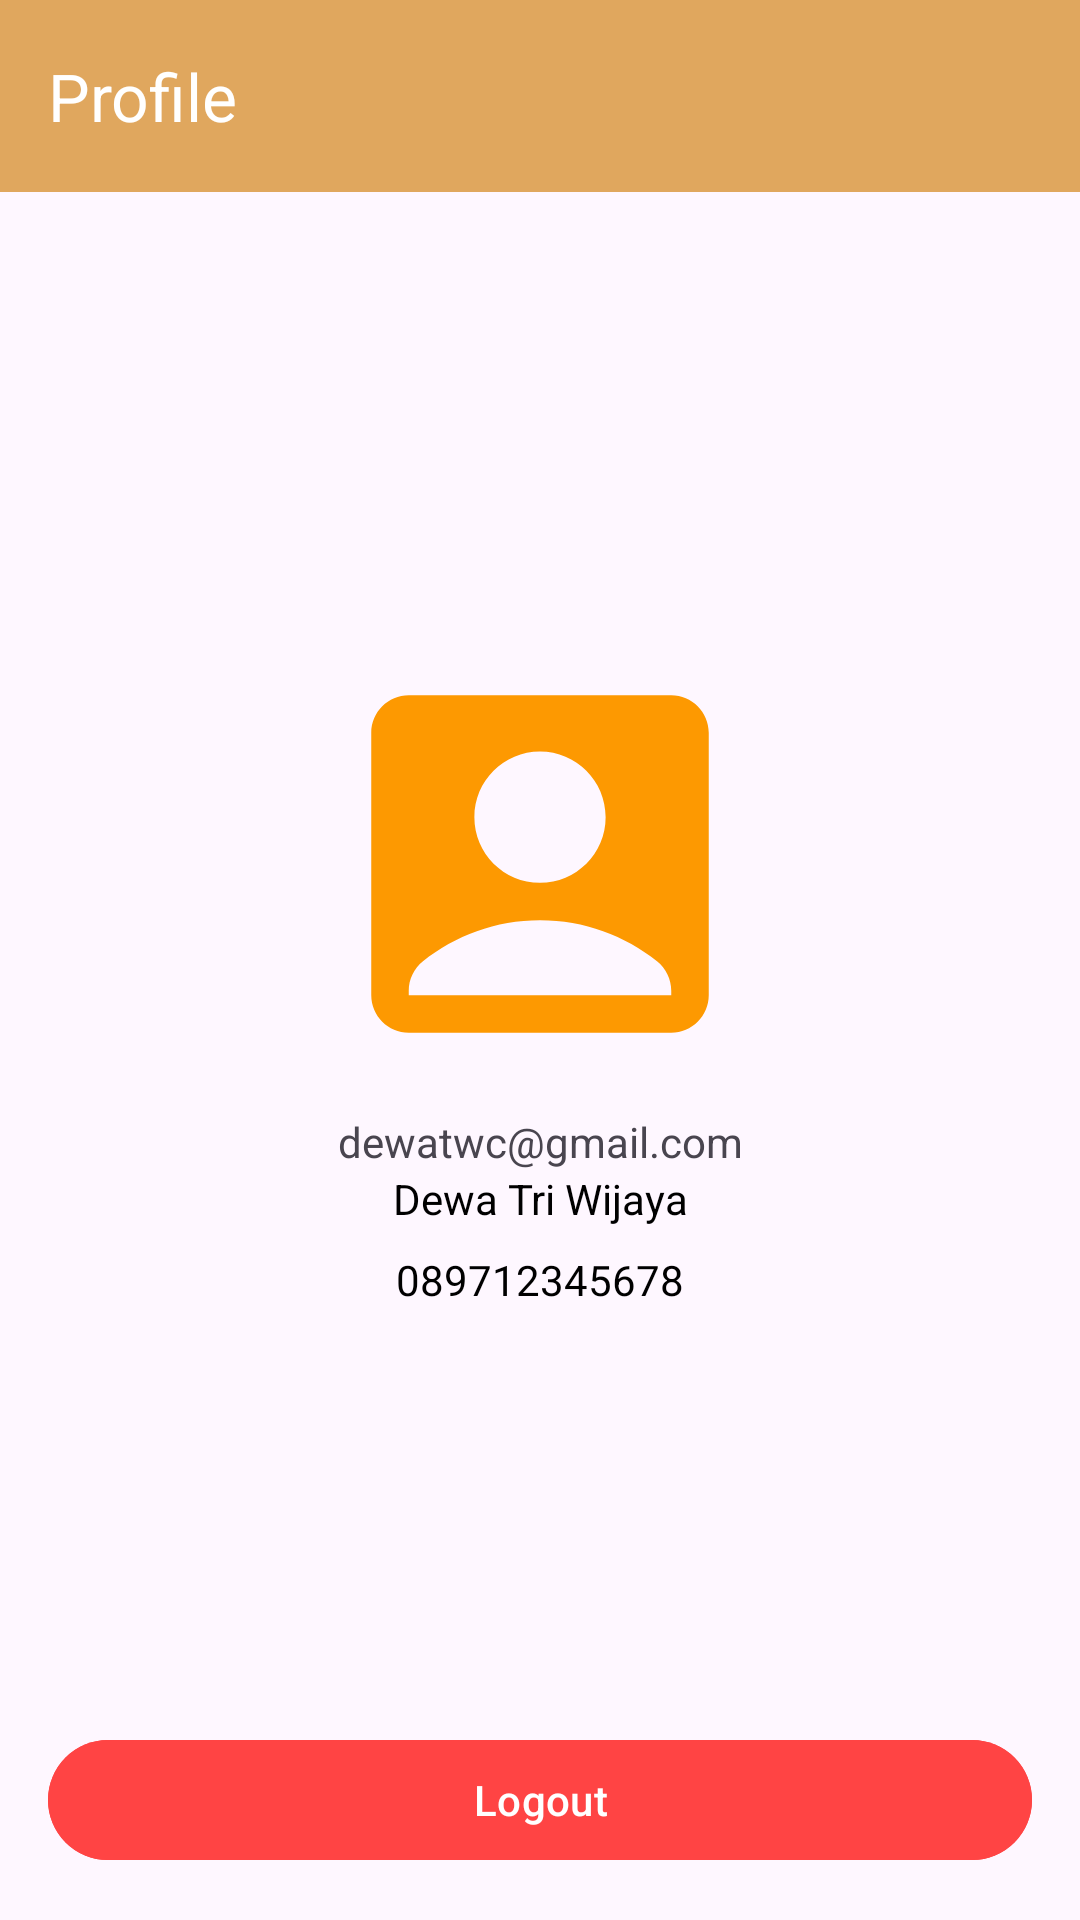

Screen size 1080px x 1920px. Icon name, then its box in pixels as (x1, y1, x2, y2):
account box: (371, 695, 709, 1033)
